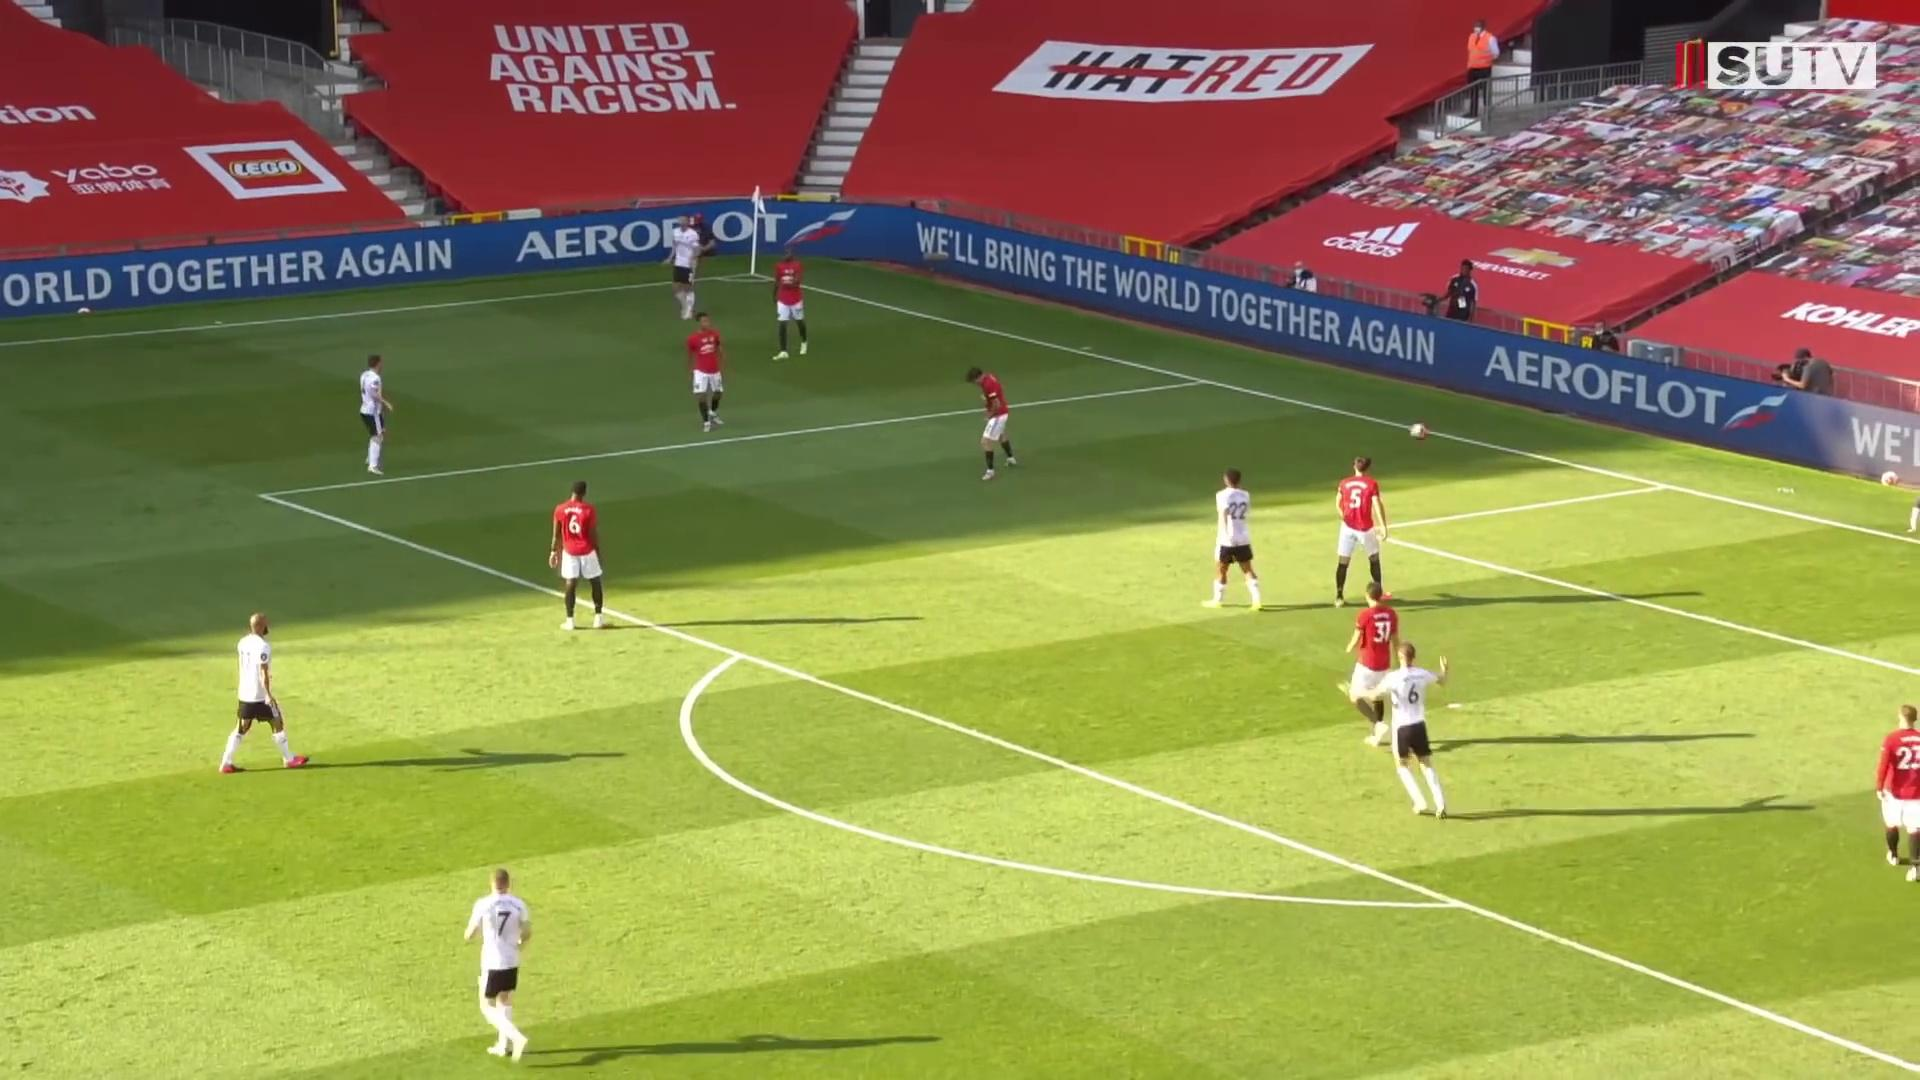ball: (1408, 421, 1428, 440)
